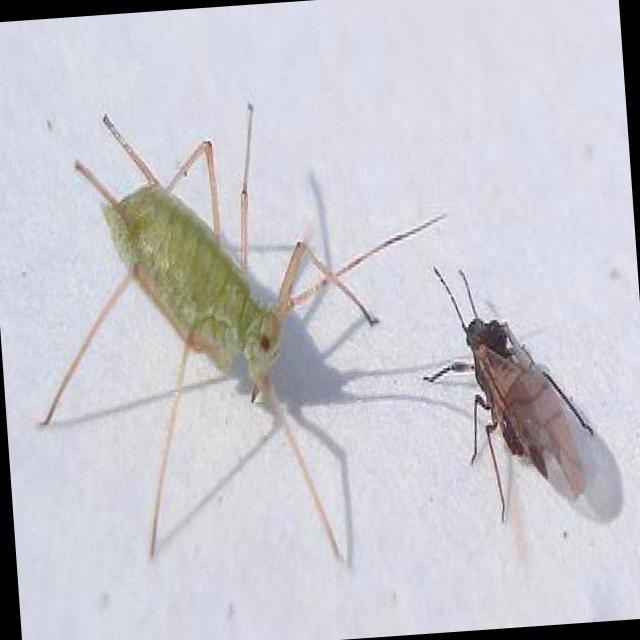aphid: (28, 41, 432, 580)
